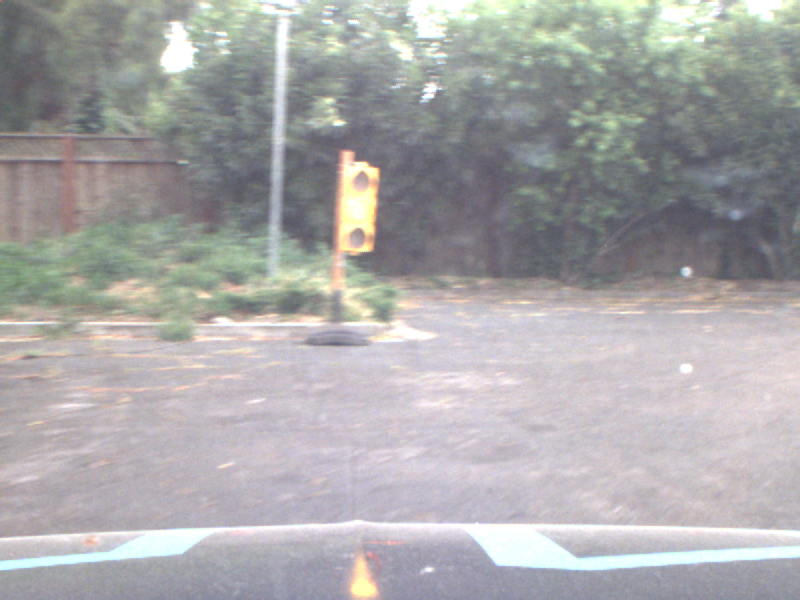Yellow: (339, 164, 373, 252)
